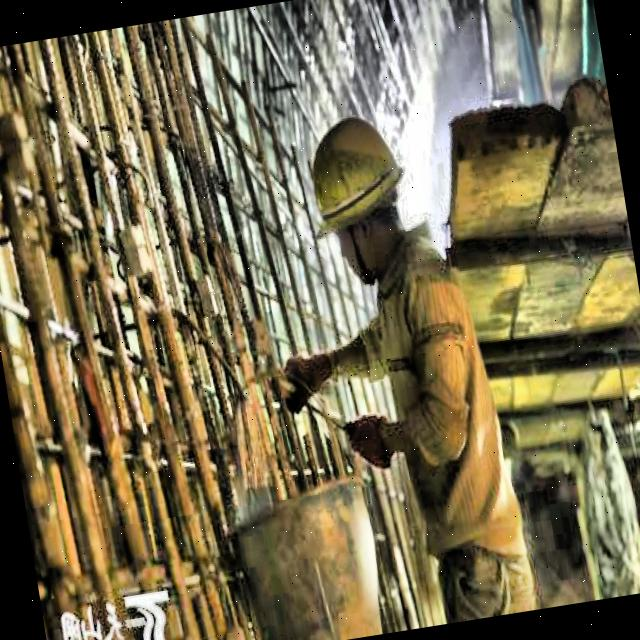helmet: (286, 89, 429, 296)
